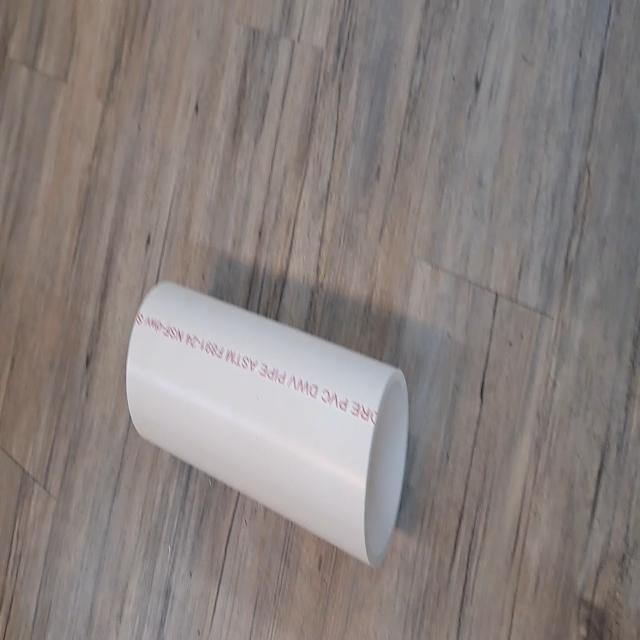CORAL: (121, 274, 421, 574)
